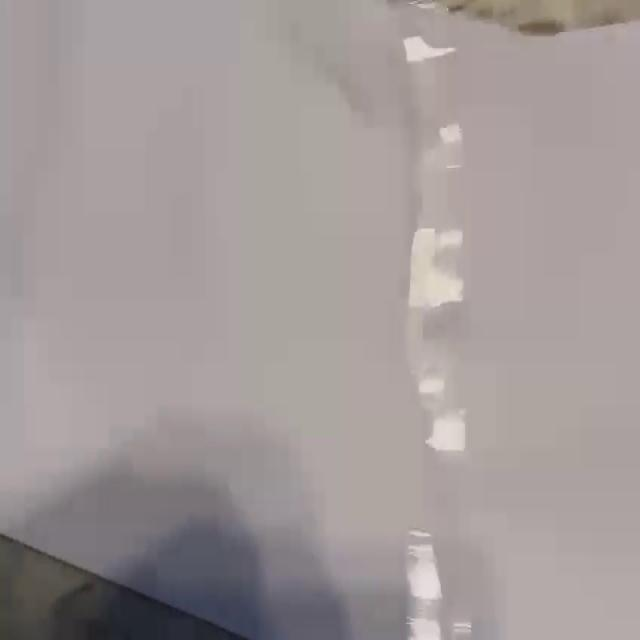road: (0, 2, 640, 638)
